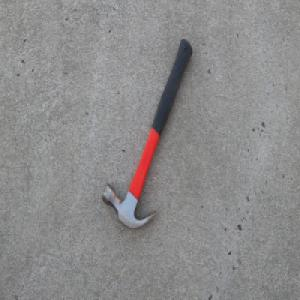Hammer: (100, 37, 192, 231)
